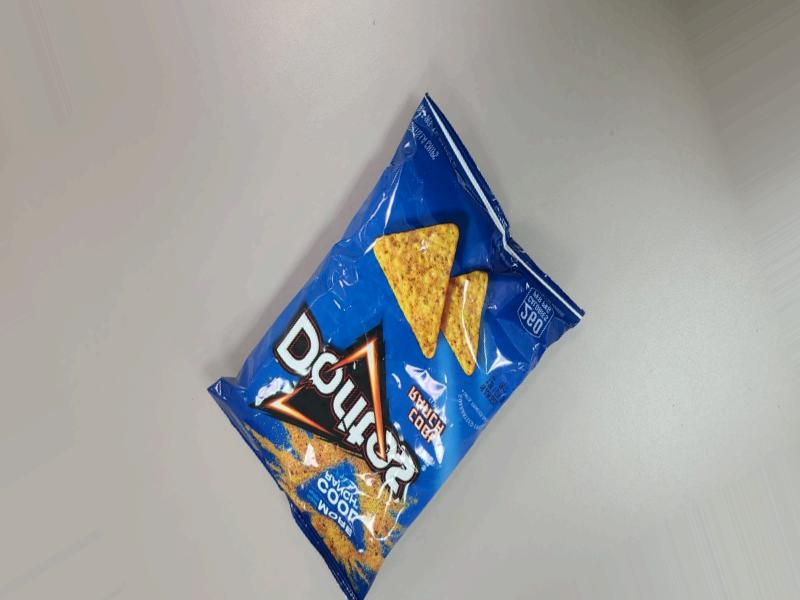doritos: (214, 173, 618, 600)
